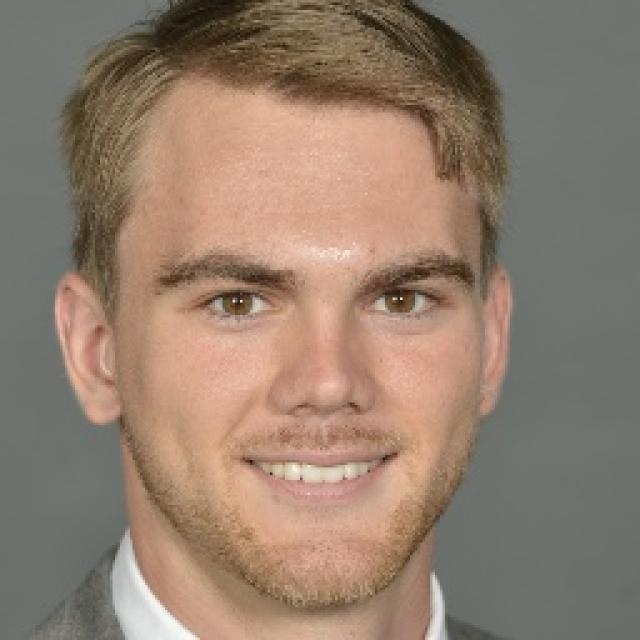earlobe: (78, 394, 124, 429), (475, 393, 501, 421)
eye: (190, 289, 280, 320), (369, 290, 445, 316)
nose: (272, 404, 376, 438)
wholeear: (56, 275, 122, 428), (472, 262, 514, 419)
